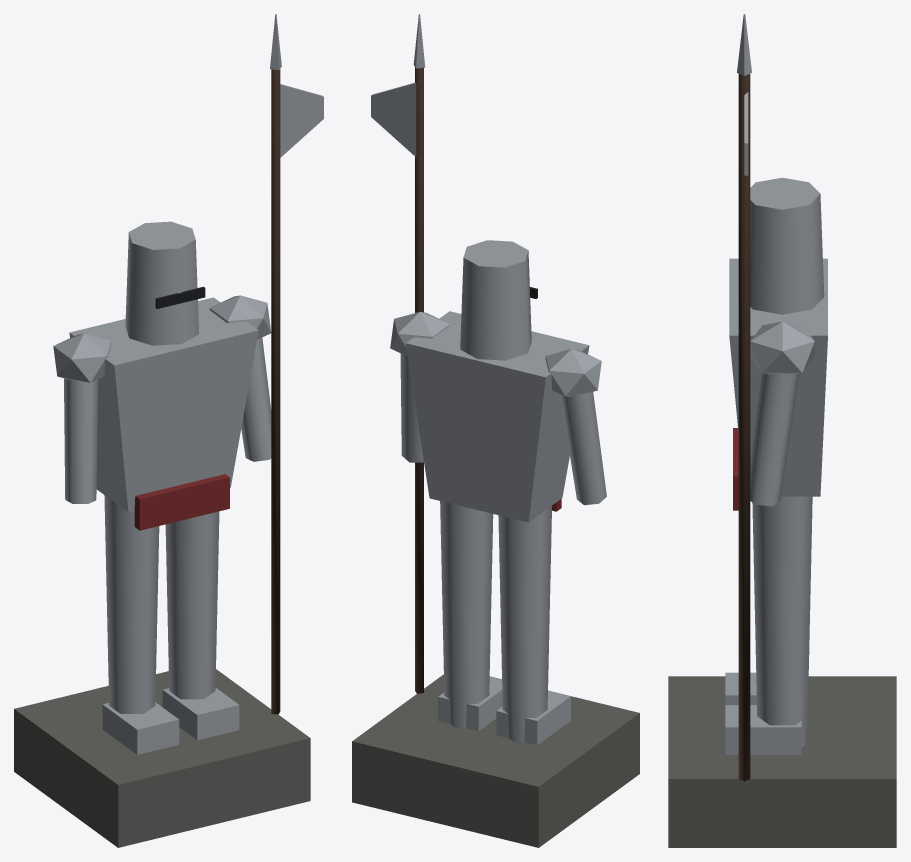
The model's file is suit_of_armour.glb.
3 renders of one model, left to right at view 1: azimuth 30°, elevation 25°; view 2: azimuth 150°, elevation 25°; view 3: azimuth 270°, elevation 25°, orthographic. The views are drawn at different scales.
Visible parts, largest first — view 1: suit_of_armour; view 2: suit_of_armour; view 3: suit_of_armour.
Part boxes in pixels (left/top/right/bottom): suit_of_armour: left=14, top=14, right=323, bottom=847; suit_of_armour: left=352, top=14, right=639, bottom=847; suit_of_armour: left=668, top=14, right=896, bottom=847.
Bounding box in the file's own units: 0.8294 × 2.42 × 0.6.
Materials: 1 (1 with a texture image).
